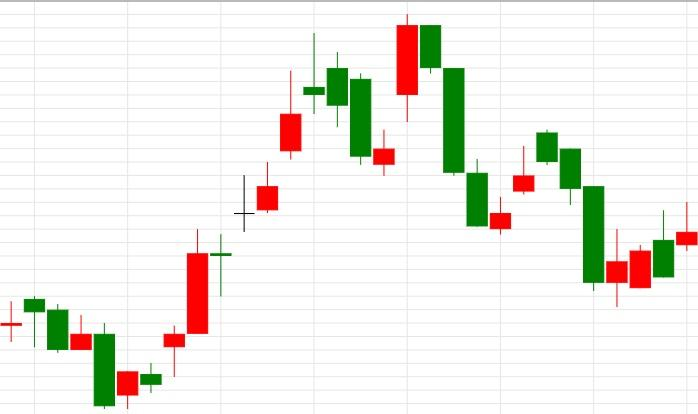three_black_crows_fall: (373, 13, 489, 228)
